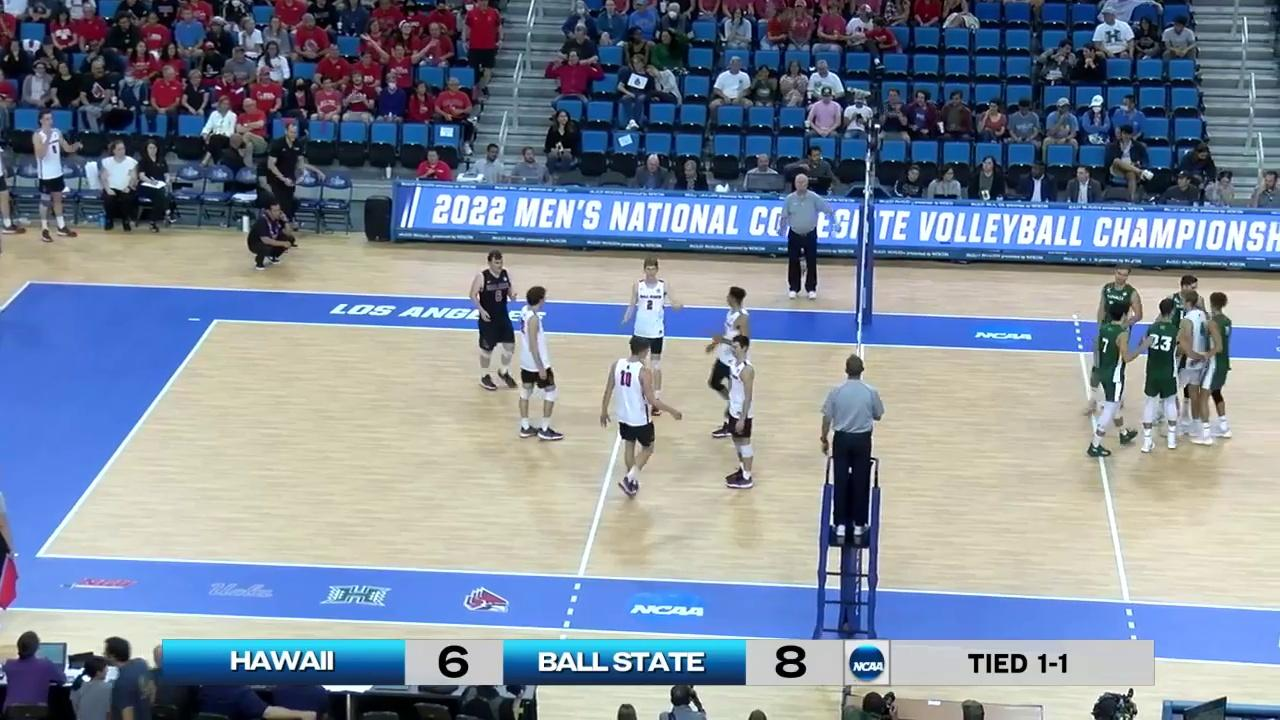player: (603, 339, 667, 499), (1084, 266, 1142, 418), (620, 256, 671, 417), (514, 286, 566, 441), (705, 286, 755, 439), (1089, 304, 1136, 458), (471, 250, 518, 394), (719, 336, 758, 488), (1145, 300, 1181, 451), (1199, 292, 1233, 444), (1168, 276, 1206, 409), (1178, 294, 1208, 438)
refree: (819, 356, 884, 530), (780, 172, 824, 299)
